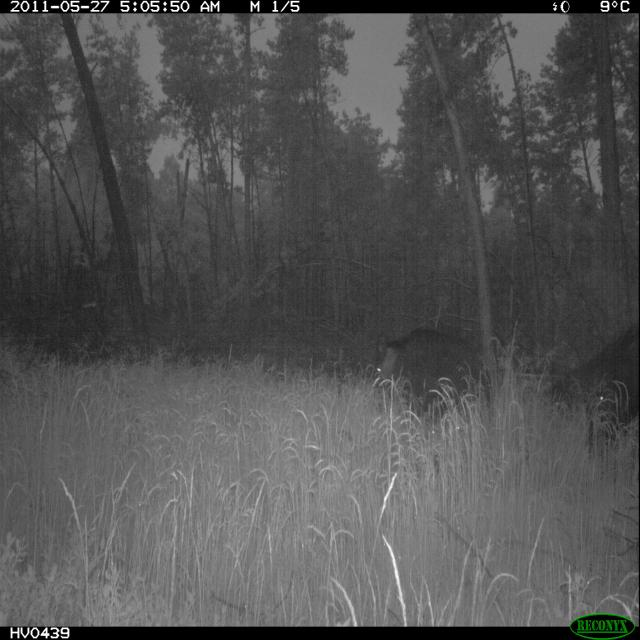boar: (349, 294, 523, 466), (553, 279, 640, 477)
